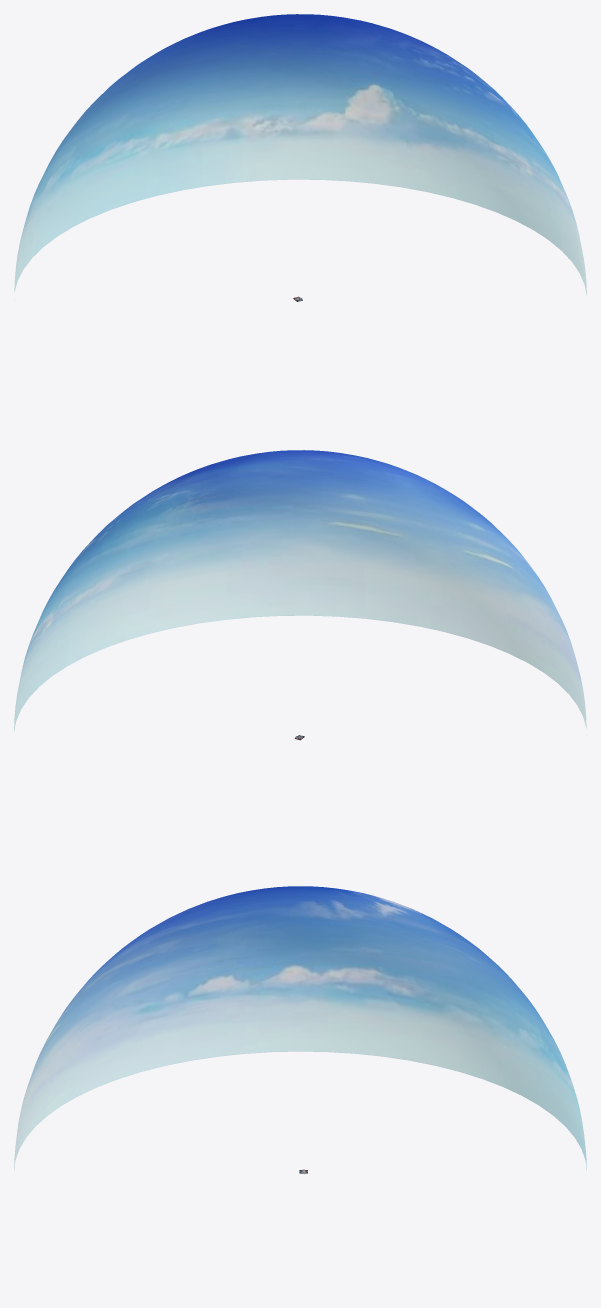
The model's file is pool_day_baked.glb.
3 renders of one model, top to bottom at view 1: azimuth 30°, elevation 25°; view 2: azimuth 150°, elevation 25°; view 3: azimuth 270°, elevation 25°, orthographic.
Visible parts, largest first — view 1: Object_10; view 2: Object_10; view 3: Object_10.
Part boxes in pixels (x1,y1,x2,y2): Object_10: [14, 14, 586, 299]; Object_10: [14, 450, 586, 735]; Object_10: [14, 886, 586, 1170].
Size of the model in its own units: 8514 by 4266 by 8514.
6 materials, 6 textured.
